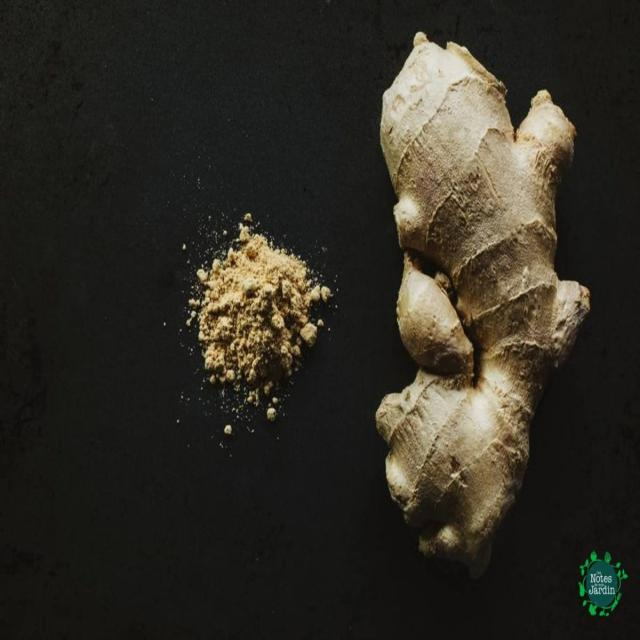ginger-root: (358, 14, 606, 551)
